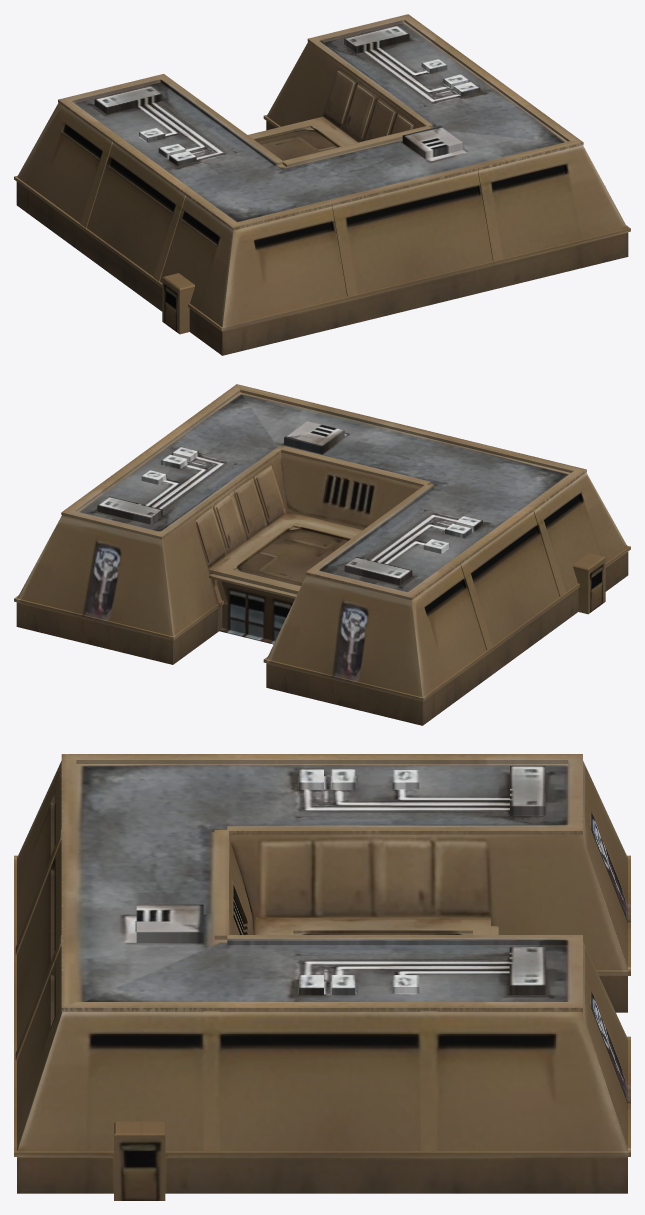
File: hpgoutbldg_cad.glb
The picture shows the model from 3 angles, top to bottom: view 1: azimuth 30°, elevation 25°; view 2: azimuth 150°, elevation 25°; view 3: azimuth 270°, elevation 25°; orthographic projection. The views are drawn at different scales.
Parts seen in each view (by area): view 1: HPGOutBldg; view 2: HPGOutBldg; view 3: HPGOutBldg.
Part boxes in pixels (box(x1,y1,x2,y2)): HPGOutBldg: box(14, 14, 630, 355); HPGOutBldg: box(14, 384, 630, 725); HPGOutBldg: box(14, 754, 630, 1200).
Bounding box in the file's own units: 24.2 × 6.25 × 20.43.
1 material, 1 textured.
